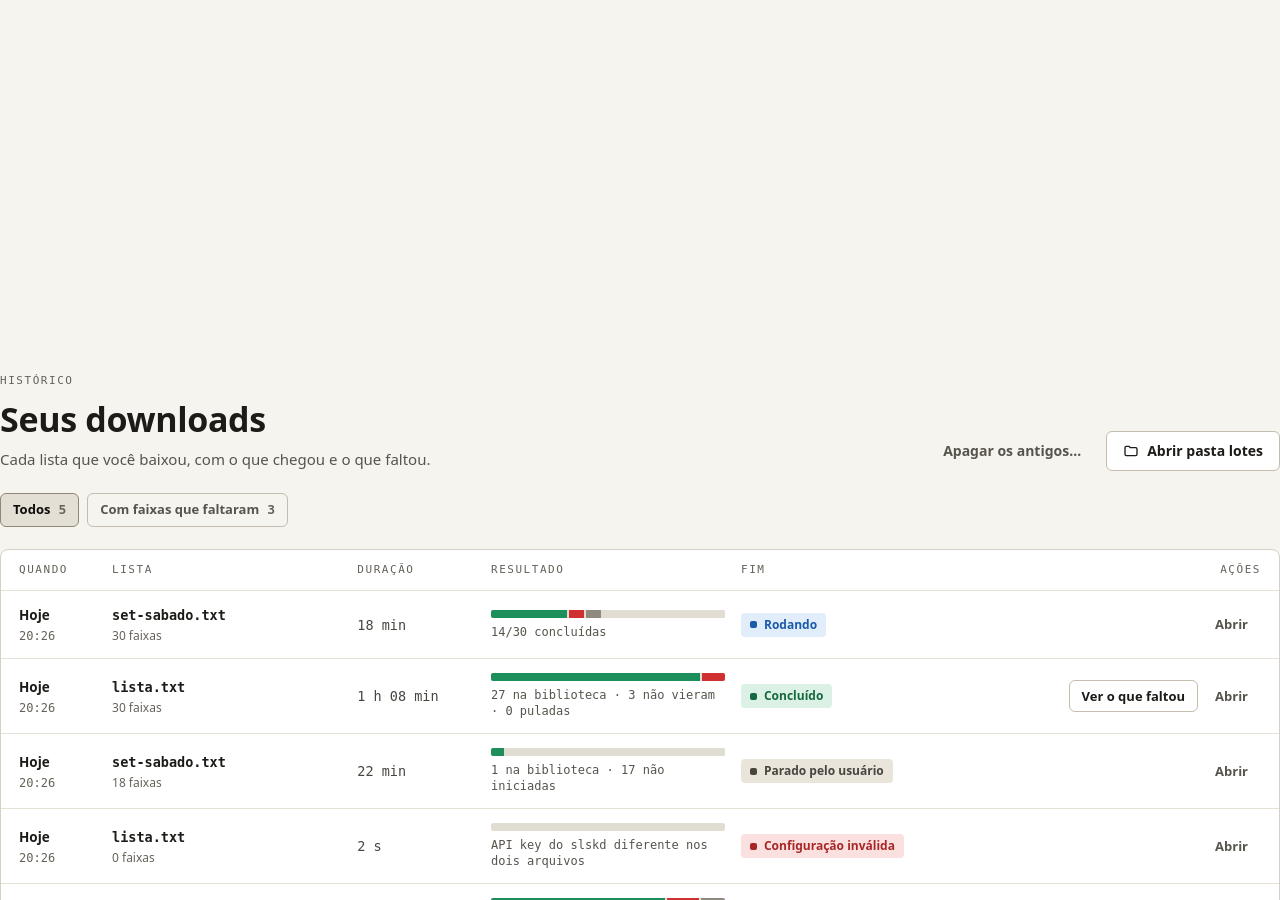
tela Histórico › Apagar execuções antigas… › avisa quando algum arquivo não pôde ser apagado
(page scrolled)
Click the button "Apagar os antigos…": (1012, 450) [926,430,1098,470]
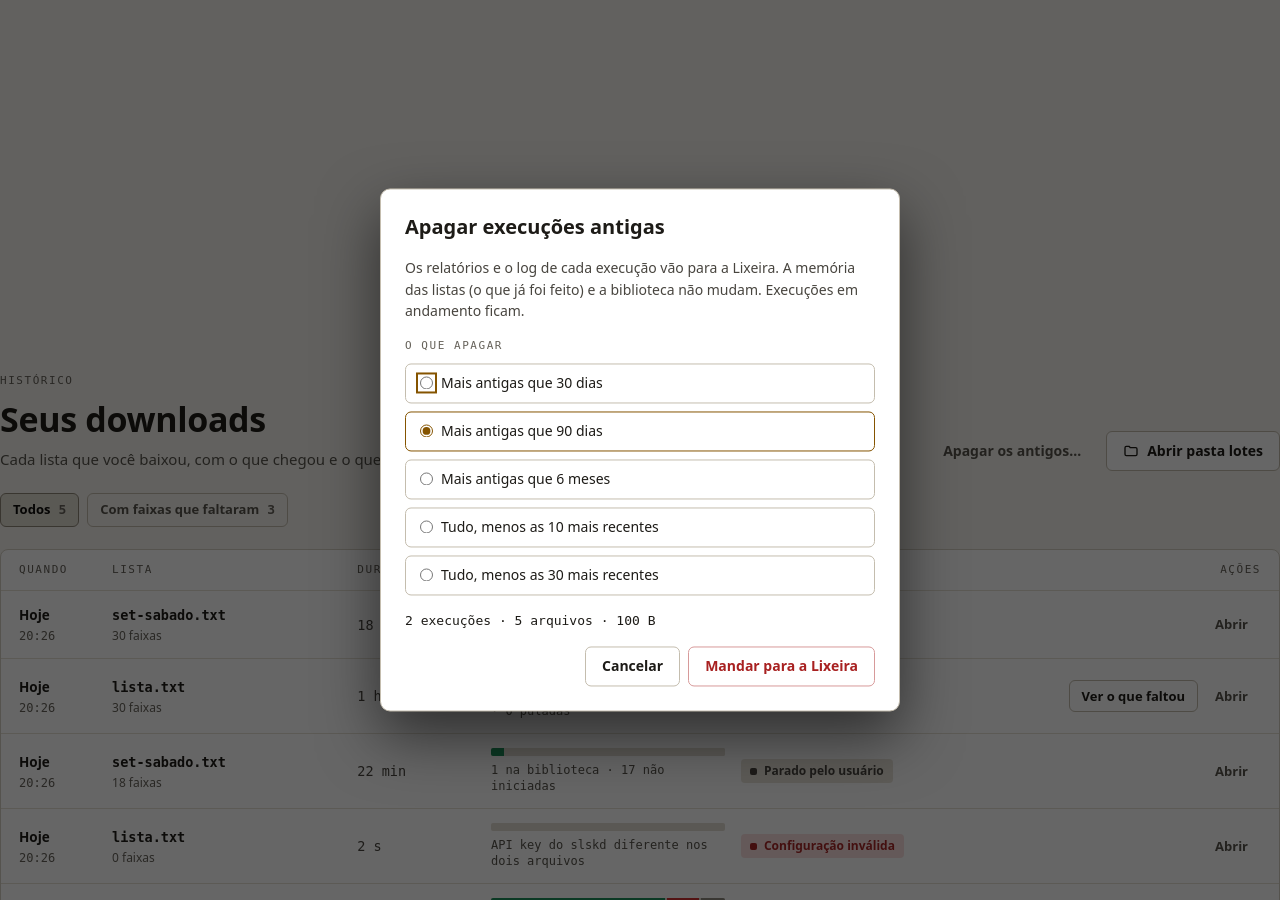
Expected: the button with test id "confirmar-limpeza" is enabled
Click the button with test id "confirmar-limpeza": (782, 666) [688,646,875,686]
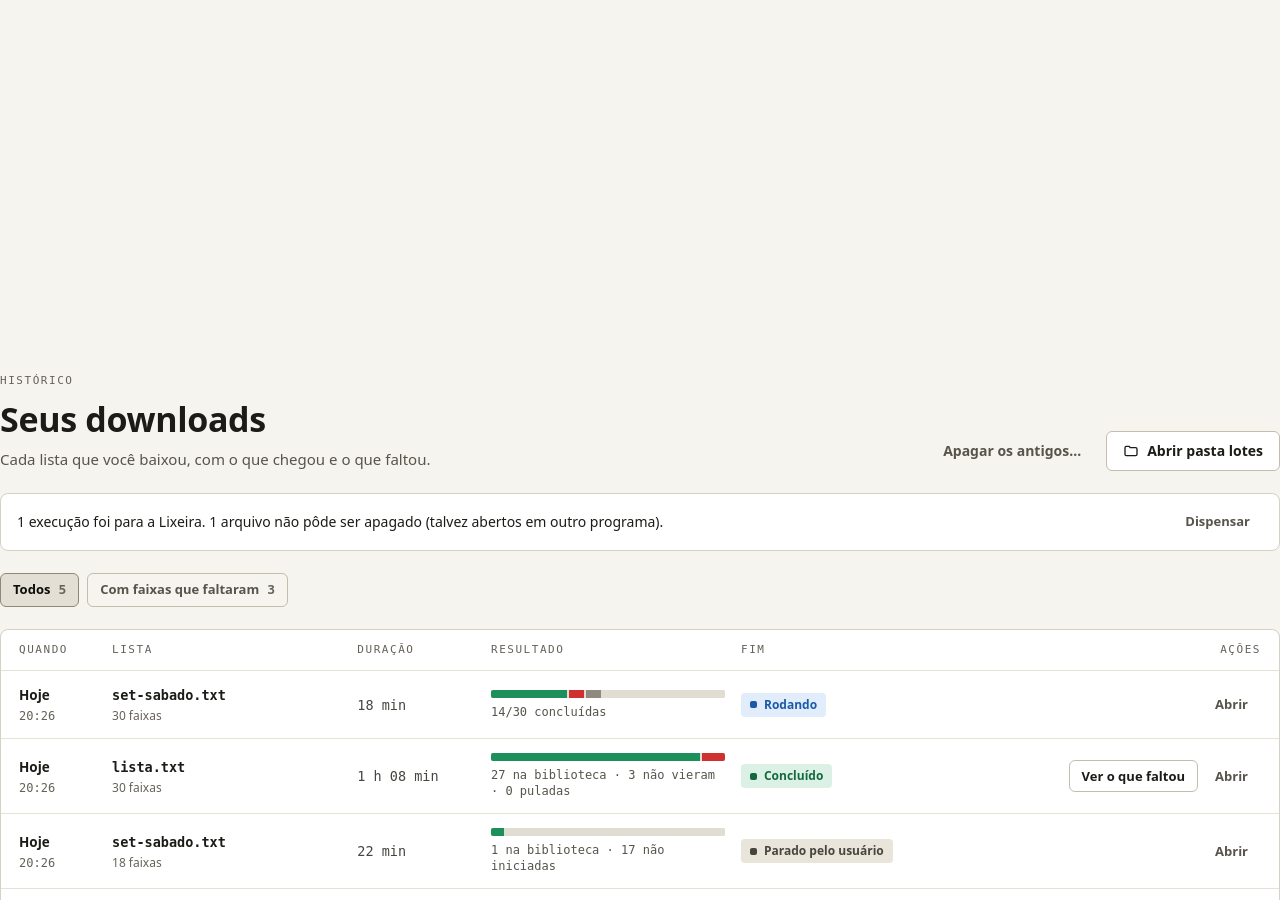
Expected: the message with test id "aviso-historico" shows "1 arquivo não pôde ser apagado", [17,512,663,530]
